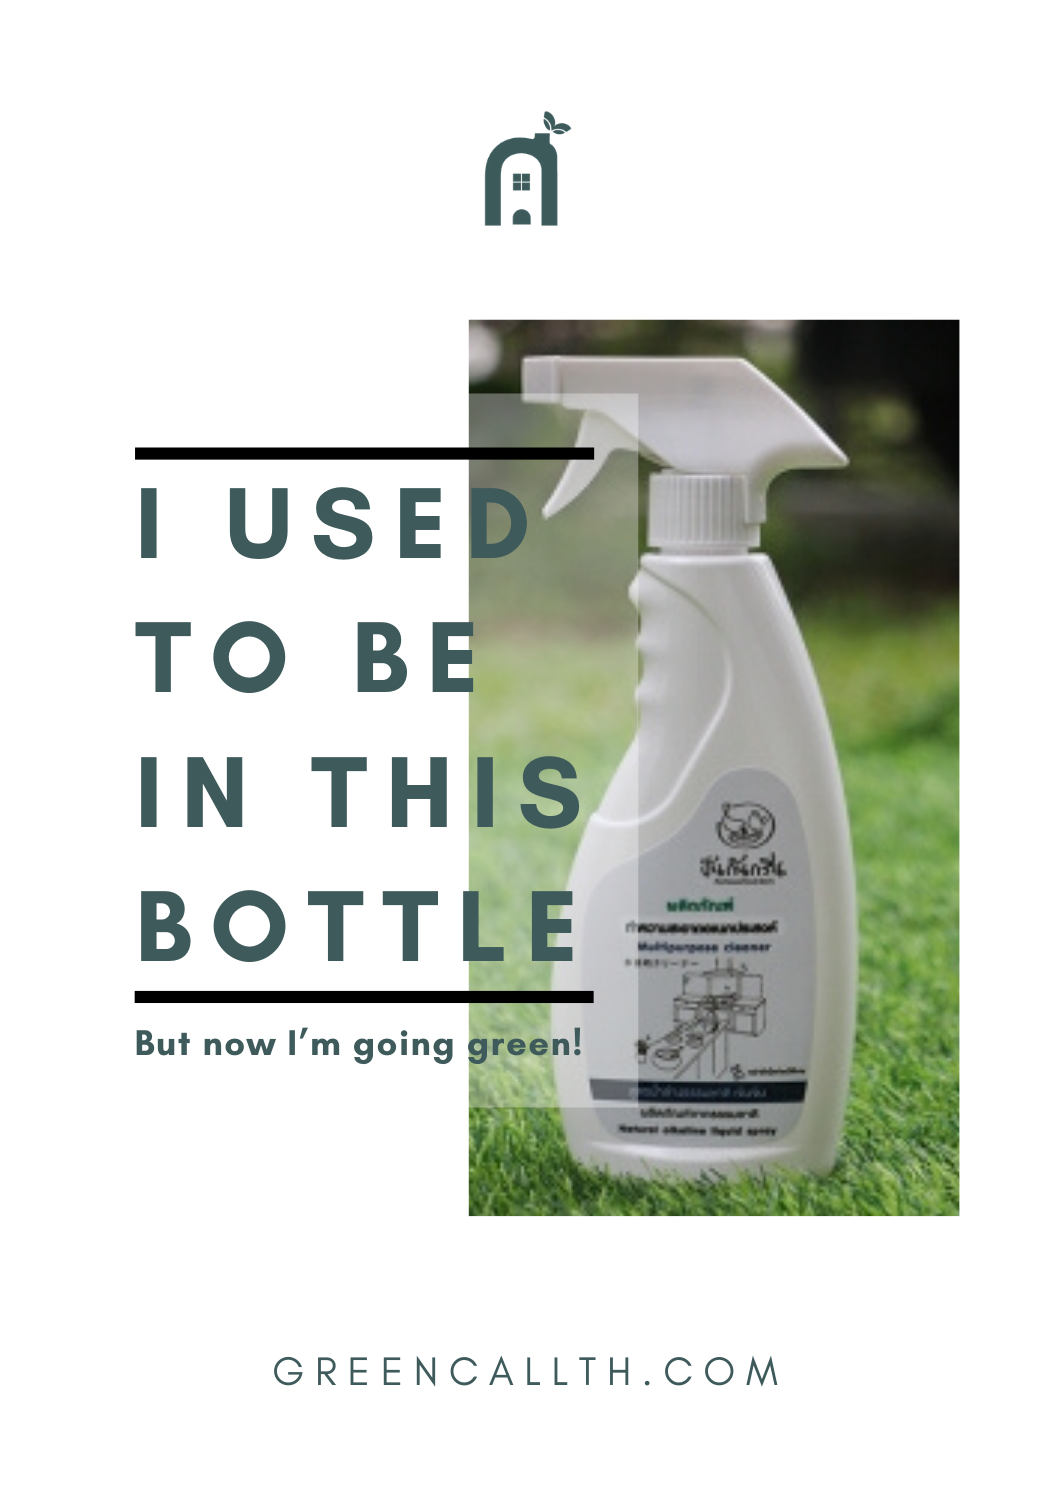Cleaning_solution: (513, 341, 866, 1189)
